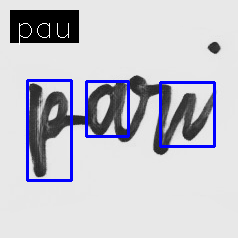a: (84, 79, 129, 141)
i: (178, 39, 222, 142)
p: (26, 81, 71, 180)
r: (127, 73, 174, 157)
